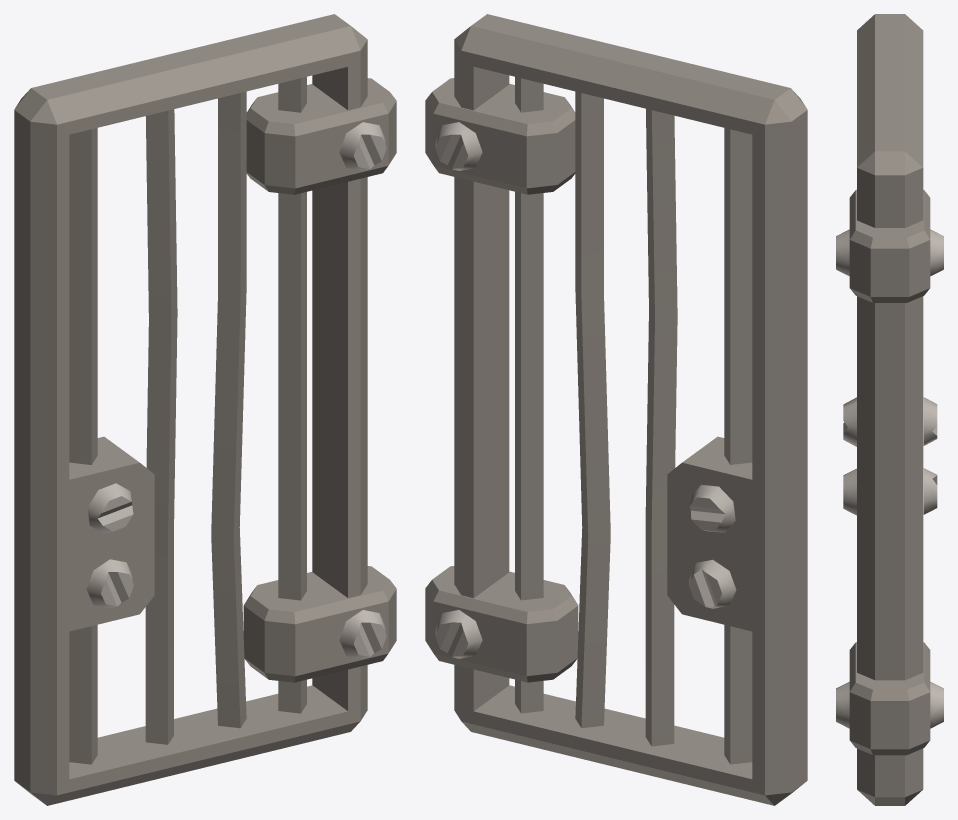
File: m_dec_dung_doorGridLarge.fbx
The picture shows the model from 3 angles, left to right: view 1: azimuth 30°, elevation 25°; view 2: azimuth 150°, elevation 25°; view 3: azimuth 270°, elevation 25°; orthographic projection. The views are drawn at different scales.
Parts seen in each view (by area): view 1: m_dec_dung_doorGridLarge; view 2: m_dec_dung_doorGridLarge; view 3: m_dec_dung_doorGridLarge.
Boxes of the visible parts, x1,y1,x2,y2 form: m_dec_dung_doorGridLarge: (14, 14, 396, 805); m_dec_dung_doorGridLarge: (425, 14, 807, 805); m_dec_dung_doorGridLarge: (836, 14, 943, 805).
Size of the model in its own units: 2.16 by 4 by 0.5976.
